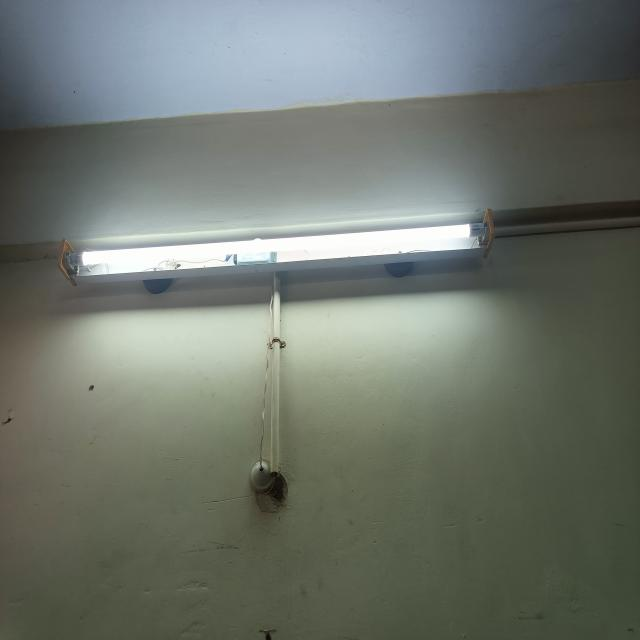tubelight_on: (59, 209, 494, 289)
